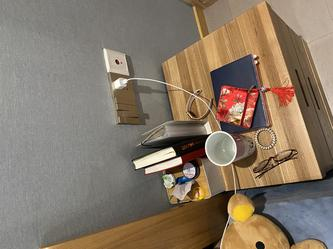switch: (117, 95, 144, 102), (117, 110, 144, 117), (119, 118, 147, 124), (118, 104, 141, 109)
